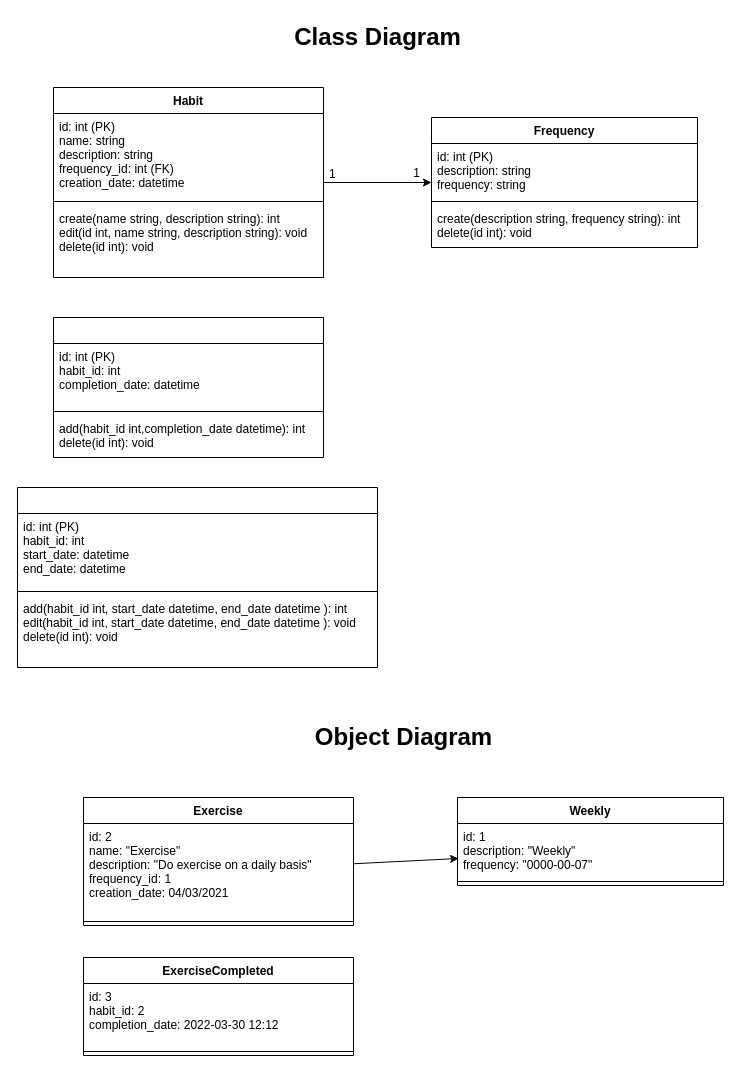
The diagram is 741 pixels wide and 1073 high, and some of its shapes have lost their labels. Here are the shapes that lost their labels. From the top down, the box of each, then its label:
(52, 316, 324, 458): CompletedTask
(16, 486, 378, 668): Steak
